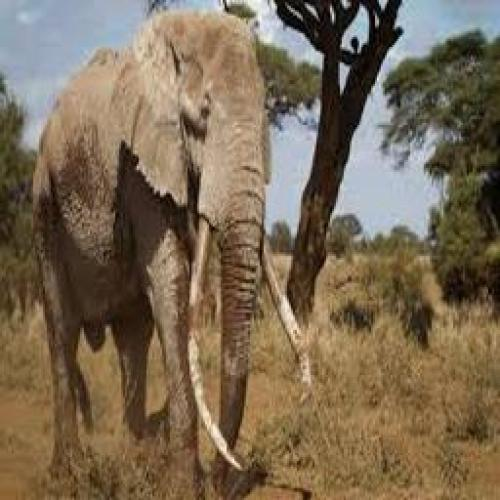african_elephant-endangered: (41, 12, 309, 475)
